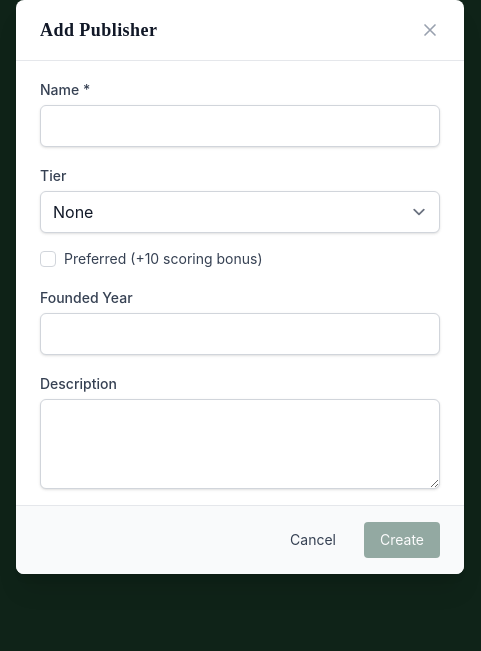
EntityFormModal › form validation (#664) › publisher year validation › shows error when founded_year is below 1000
Type "Test Publisher" into the field labelled "Name *".
click(240, 126); type("Test Publisher")  # box [40,105,440,147]
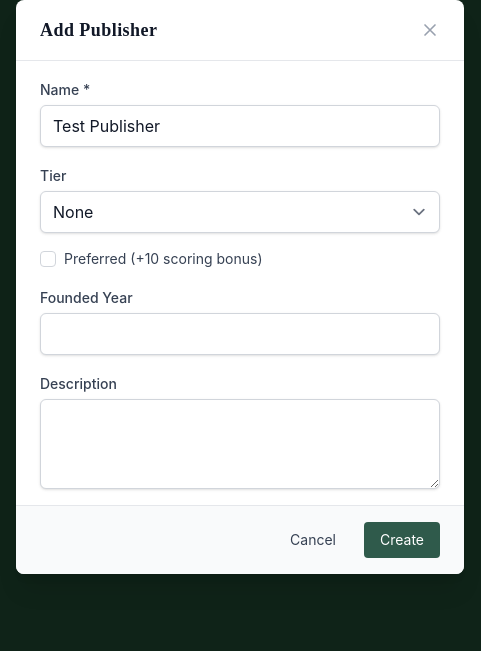
Type "999" into the number field labelled "Founded Year".
click(240, 334); type("999")  # box [40,313,440,355]
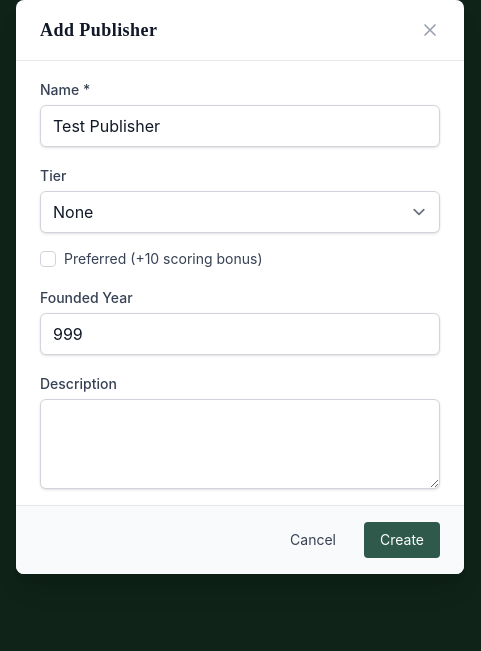
Click the button "Create".
click(402, 540)  # box [364,522,440,558]
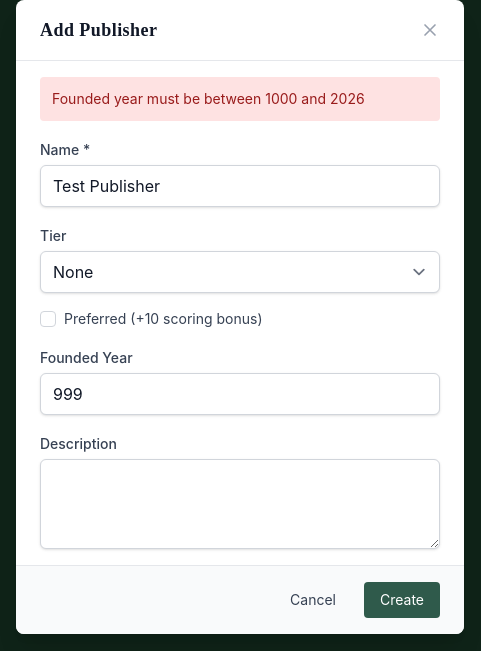
Result: the text "Founded year must be between 1000 and 2026" is shown at [40,77,440,121]
Result: the text with test id "validation-error" shows "Founded year must be between 1000" at [52,90,365,107]
